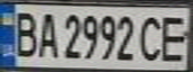2: (115, 11, 139, 62), (60, 9, 81, 61)
9: (96, 11, 121, 62), (78, 10, 100, 61)
A: (33, 8, 60, 60)
B: (9, 7, 42, 58)
C: (136, 11, 166, 63)
E: (157, 11, 193, 63)
